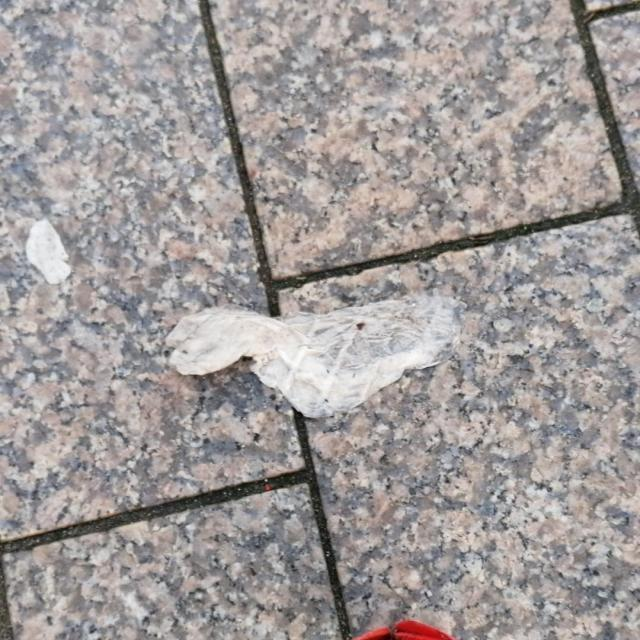Paper: (162, 290, 467, 420)
